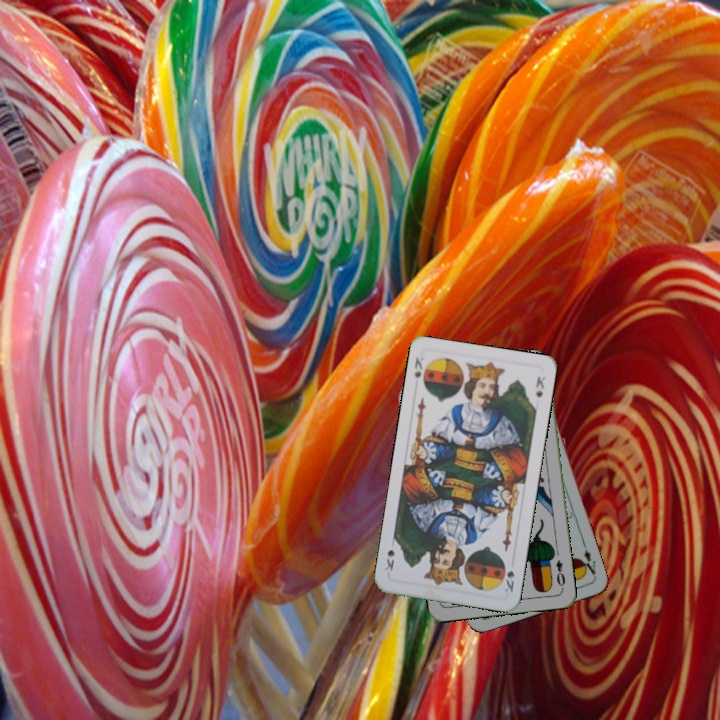EA: (576, 545, 599, 580)
EO: (552, 556, 568, 592)
SK: (500, 567, 517, 595), (410, 353, 427, 380)
